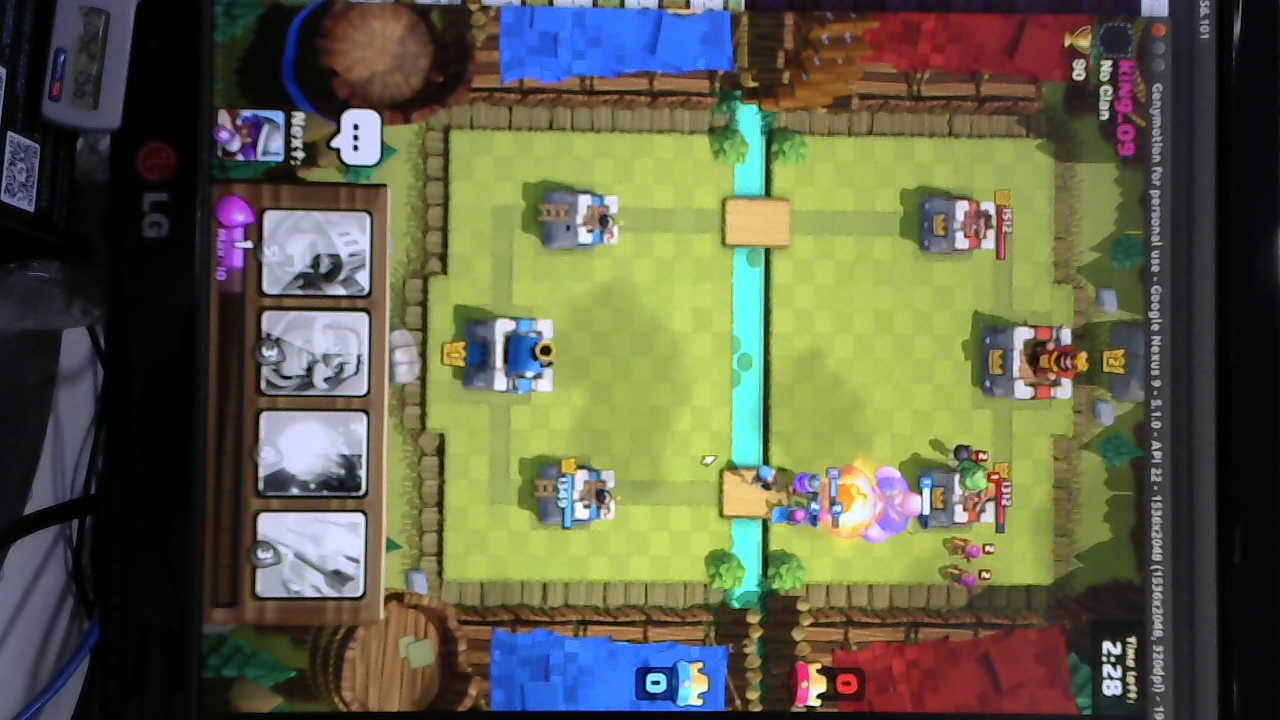archers: (948, 533, 987, 595), (758, 500, 834, 530)
arena: (537, 463, 618, 527), (543, 190, 623, 249)
bomb: (746, 461, 785, 492), (951, 440, 997, 465)
dragon: (944, 460, 1001, 496)
earena: (920, 197, 999, 257), (927, 469, 999, 531)
eking: (982, 321, 1087, 403)
giant: (869, 466, 918, 537)
king: (463, 313, 558, 396)
musketeer: (782, 469, 832, 501)
